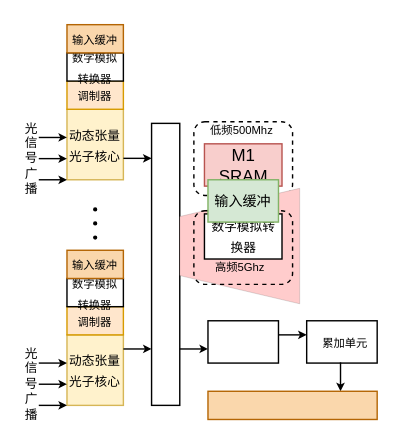
Some shapes in this 402 by 447 pixel diagram are drawn without their labels. Here are the shapes that lost their labels. From the top down, the centre of each, then its label:
[165,263]: DPTC互连网络
[242,341]: 信号转换单元
[292,404]: 输出缓冲区
